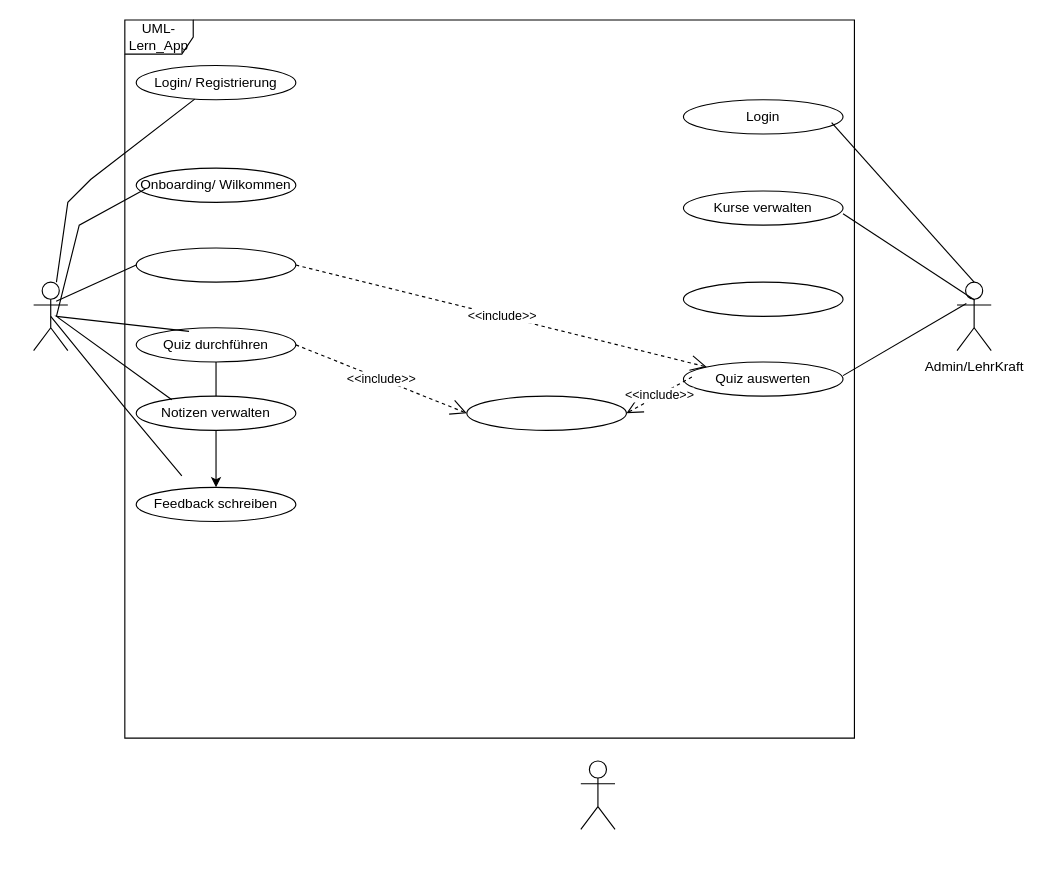
Image size: 1043x890. Some labels were removed from this diagram. Each missing label, with the centre of its shape:
"FireBase (Auth & DB) <Externes System>" belongs at point (597, 794).
"Kurse auswählen" belongs at point (215, 264).
"Lernender" belongs at point (50, 316).
"Punkte zeigen" belongs at point (546, 412).
"Quiz verwalten" belongs at point (762, 298).
